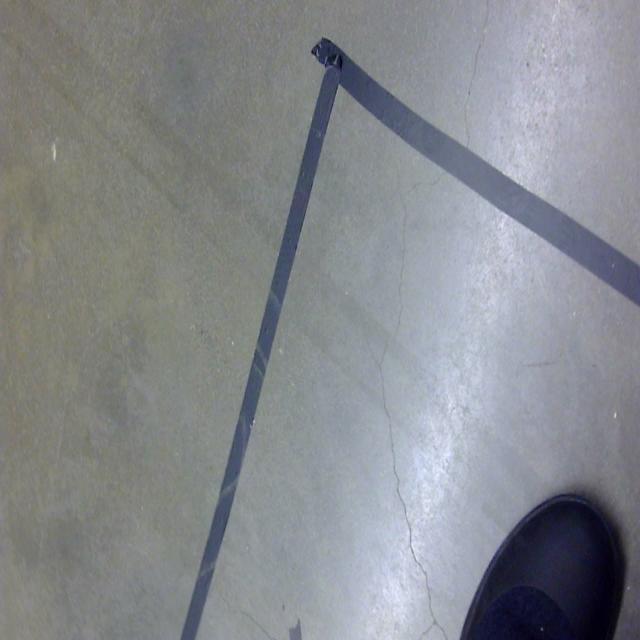tape: (180, 40, 640, 640)
